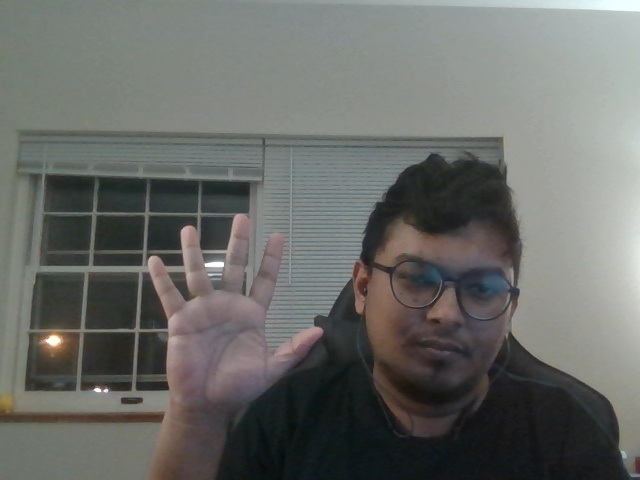hello: (141, 203, 332, 430)
